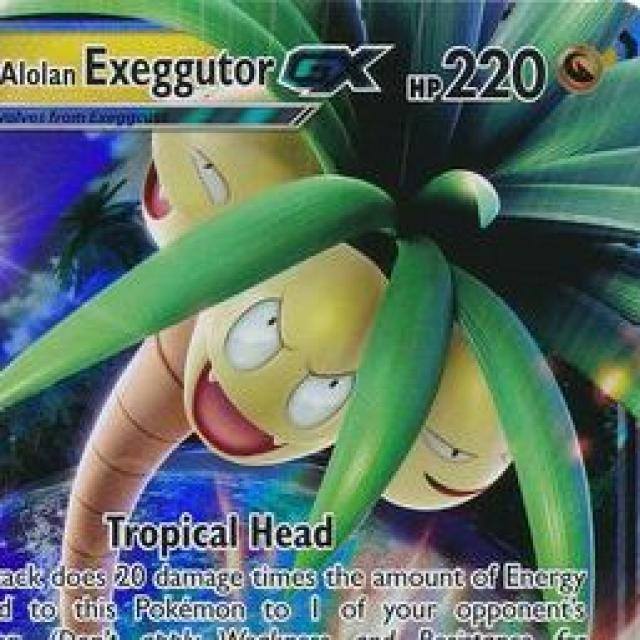Exeggutor: (59, 132, 514, 526)
